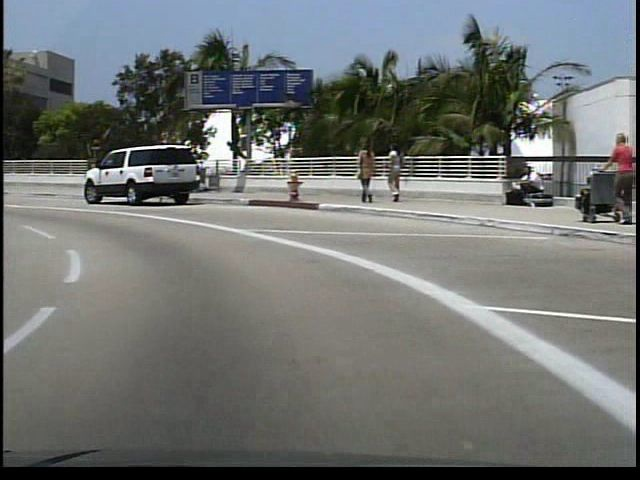person: (598, 127, 629, 230), (353, 138, 375, 209), (380, 143, 403, 205), (508, 165, 541, 208)
